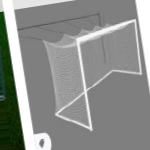goals: (40, 18, 143, 134)
